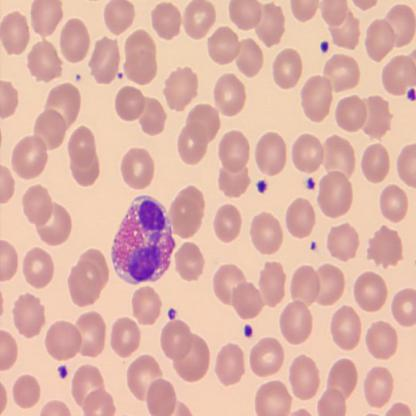Eosinophil: (112, 193, 176, 283)
